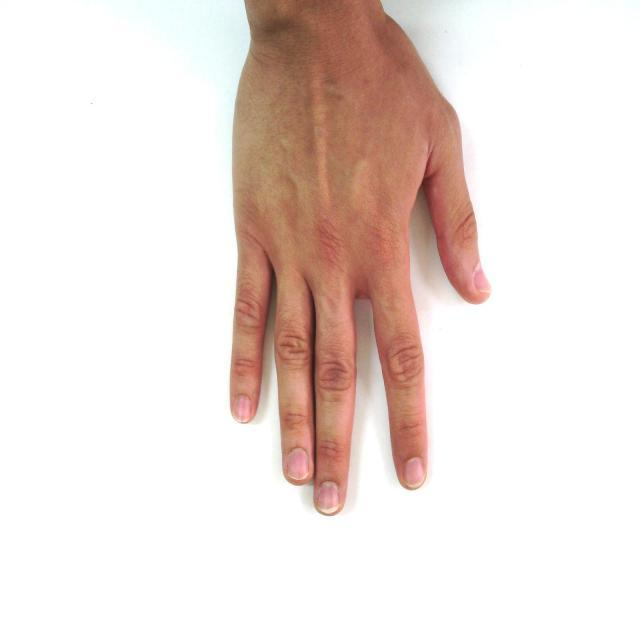Fingernail: (404, 456, 426, 489), (288, 448, 309, 481), (318, 481, 339, 513), (235, 396, 251, 422), (474, 268, 490, 292)
